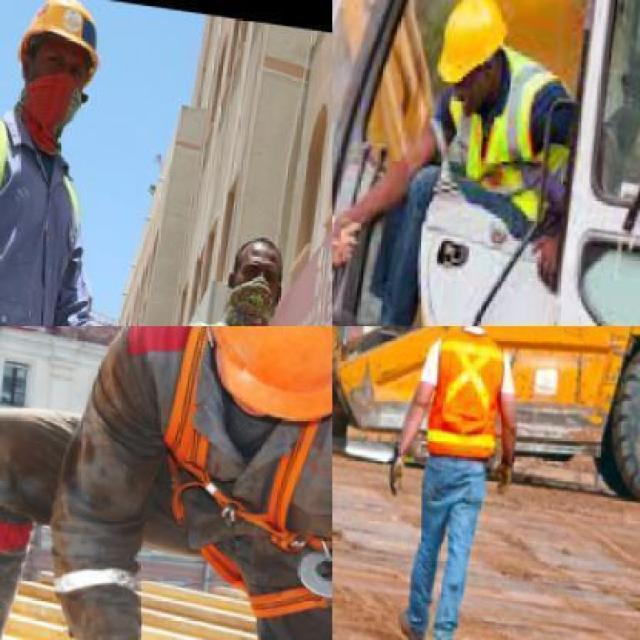Vest: (46, 326, 331, 639), (431, 40, 583, 225), (0, 95, 98, 324), (432, 326, 517, 454)
